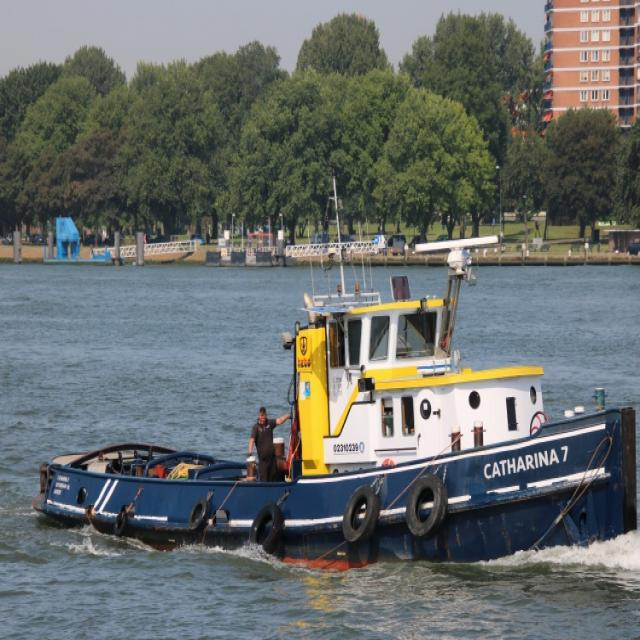tugboat: (32, 231, 640, 587)
